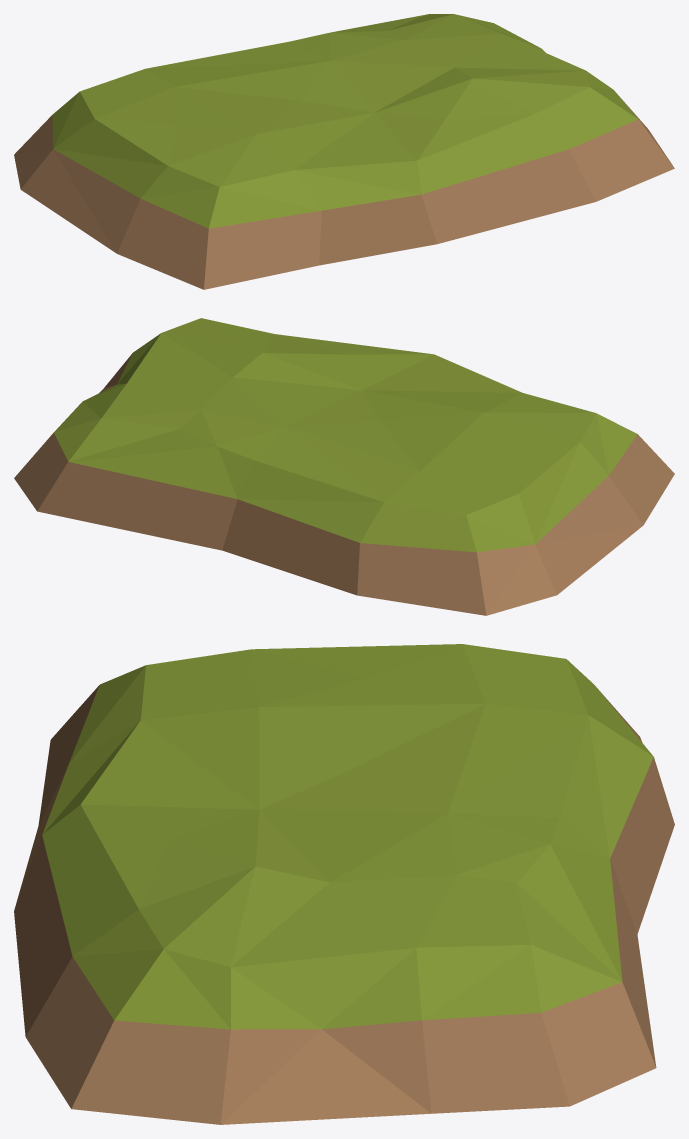
File: TB_Env_Mound_Med_B.FBX
The picture shows the model from 3 angles, top to bottom: view 1: azimuth 30°, elevation 25°; view 2: azimuth 150°, elevation 25°; view 3: azimuth 270°, elevation 25°; orthographic projection. The views are drawn at different scales.
Parts seen in each view (by area): view 1: TB_Env_Mound_Med_B; view 2: TB_Env_Mound_Med_B; view 3: TB_Env_Mound_Med_B.
Part boxes in pixels (left/top/right/bottom): TB_Env_Mound_Med_B: left=14, top=14, right=674, bottom=289; TB_Env_Mound_Med_B: left=14, top=318, right=674, bottom=615; TB_Env_Mound_Med_B: left=14, top=644, right=674, bottom=1124.
Size of the model in its own units: 19.48 by 2.89 by 13.21.
